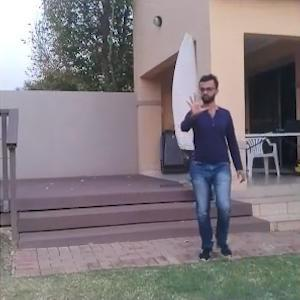follow_hand: (183, 88, 212, 118)
